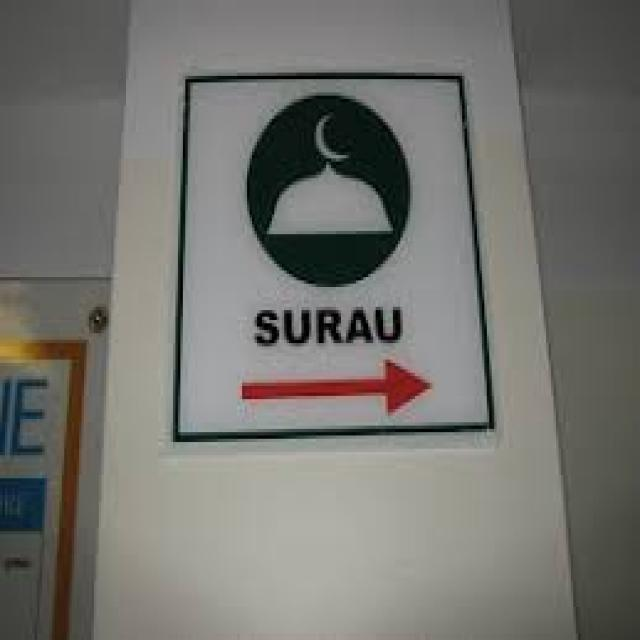surau_icon: (264, 108, 402, 256)
